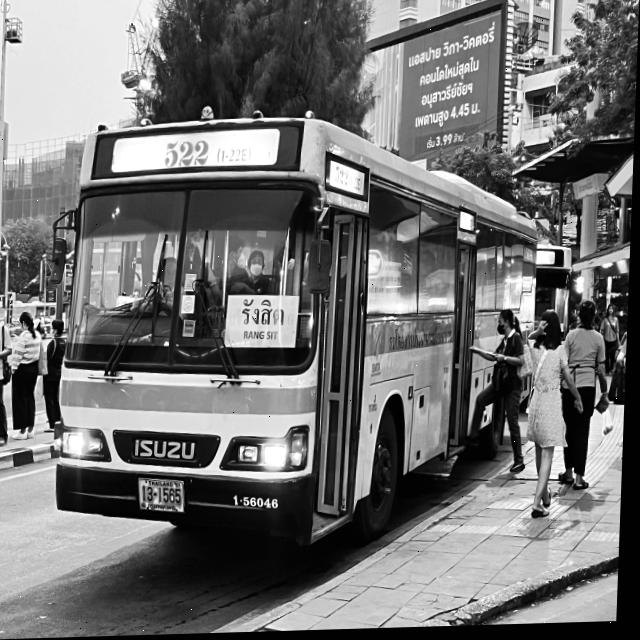BMTA-bus: (44, 82, 552, 570)
Bus-Line-Number: (159, 129, 256, 173)
Destination-Sign-Normal-Expressway: (226, 296, 301, 350)
